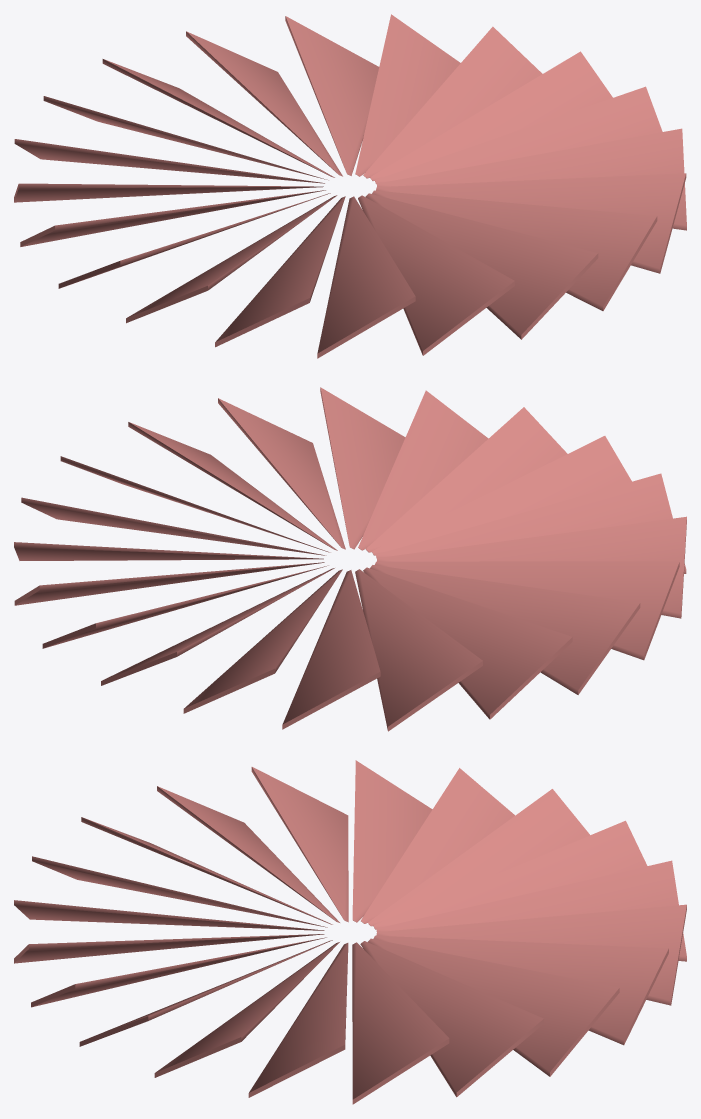
The model's file is gnuchanos_ch_purple_rotation.obj.
3 renders of one model, top to bottom at view 1: azimuth 30°, elevation 25°; view 2: azimuth 150°, elevation 25°; view 3: azimuth 270°, elevation 25°, orthographic.
Visible parts, largest first — view 1: rotate_Cube.003; view 2: rotate_Cube.003; view 3: rotate_Cube.003.
Part boxes in pixels (x1,y1,x2,y2): rotate_Cube.003: (14,14,686,358); rotate_Cube.003: (14,387,686,731); rotate_Cube.003: (14,760,686,1104).
Bounding box in the file's own units: 1.49 × 0.1468 × 1.49.
